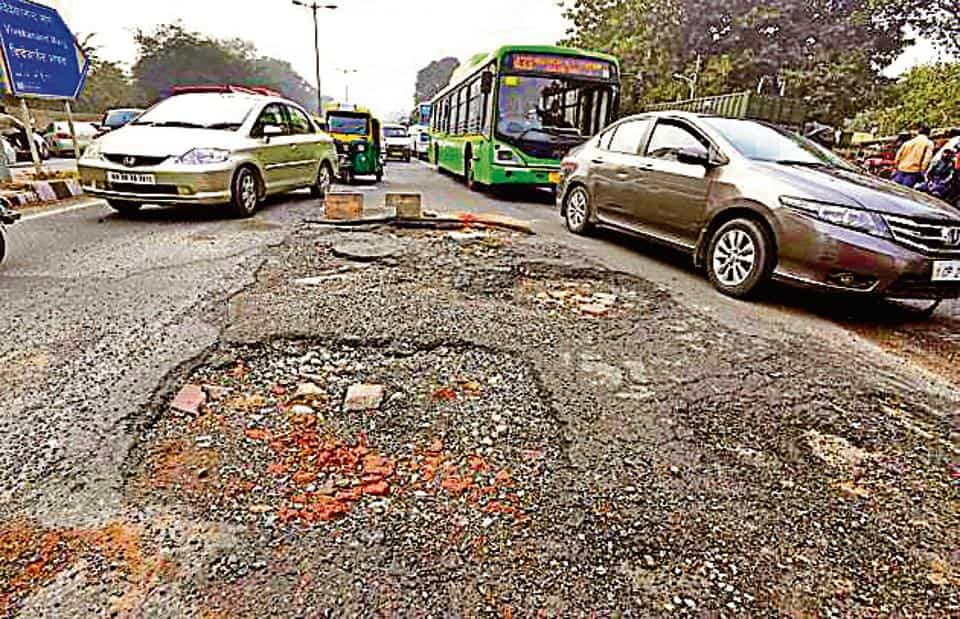pothole: (150, 304, 562, 534), (314, 186, 514, 255)
